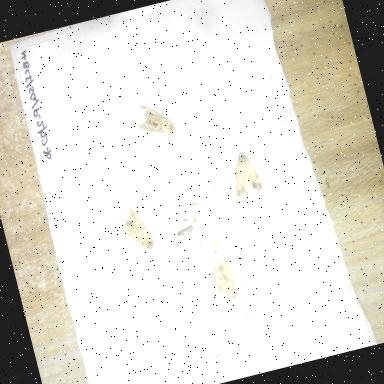abw: (216, 142, 274, 212), (111, 196, 163, 263), (128, 94, 184, 156), (200, 250, 248, 310)
